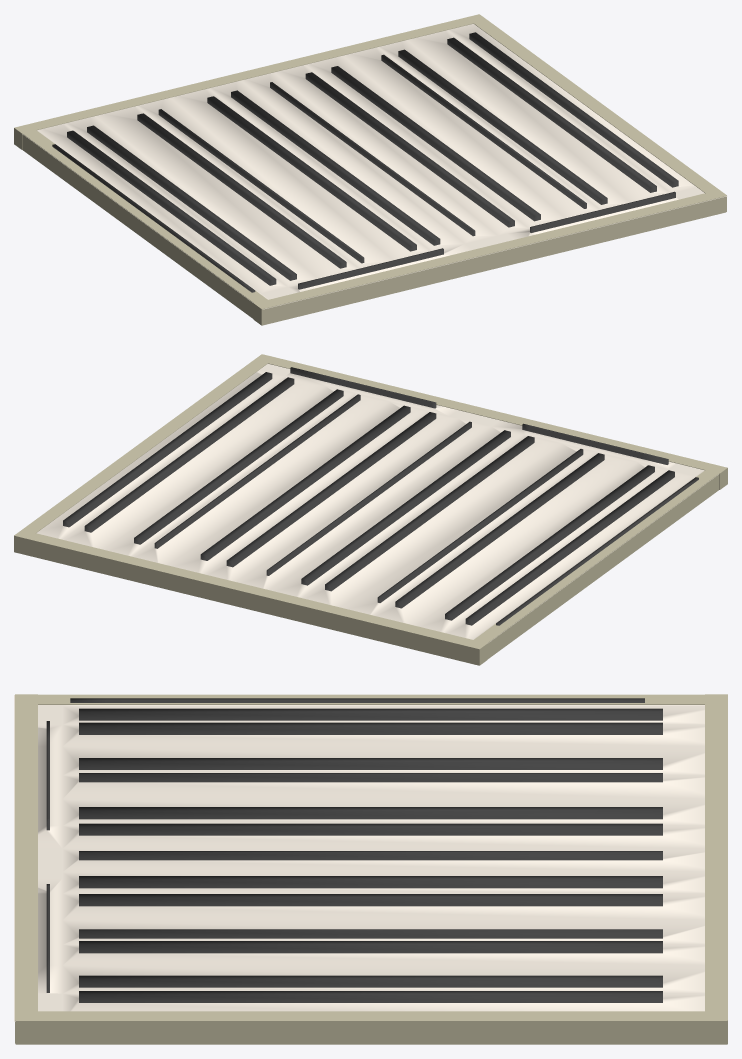
File: Ceiling_1.fbx
The picture shows the model from 3 angles, top to bottom: view 1: azimuth 30°, elevation 25°; view 2: azimuth 150°, elevation 25°; view 3: azimuth 270°, elevation 25°; orthographic projection. The views are drawn at different scales.
Visible parts, largest first — view 1: Ceiling_Deco_Square; view 2: Ceiling_Deco_Square; view 3: Ceiling_Deco_Square.
Part boxes in pixels (x1,y1,x2,y2): Ceiling_Deco_Square: (14,14,727,325); Ceiling_Deco_Square: (14,354,727,665); Ceiling_Deco_Square: (14,694,727,1044).
Bounding box in the file's own units: 13.28 × 0.583 × 12.26.
